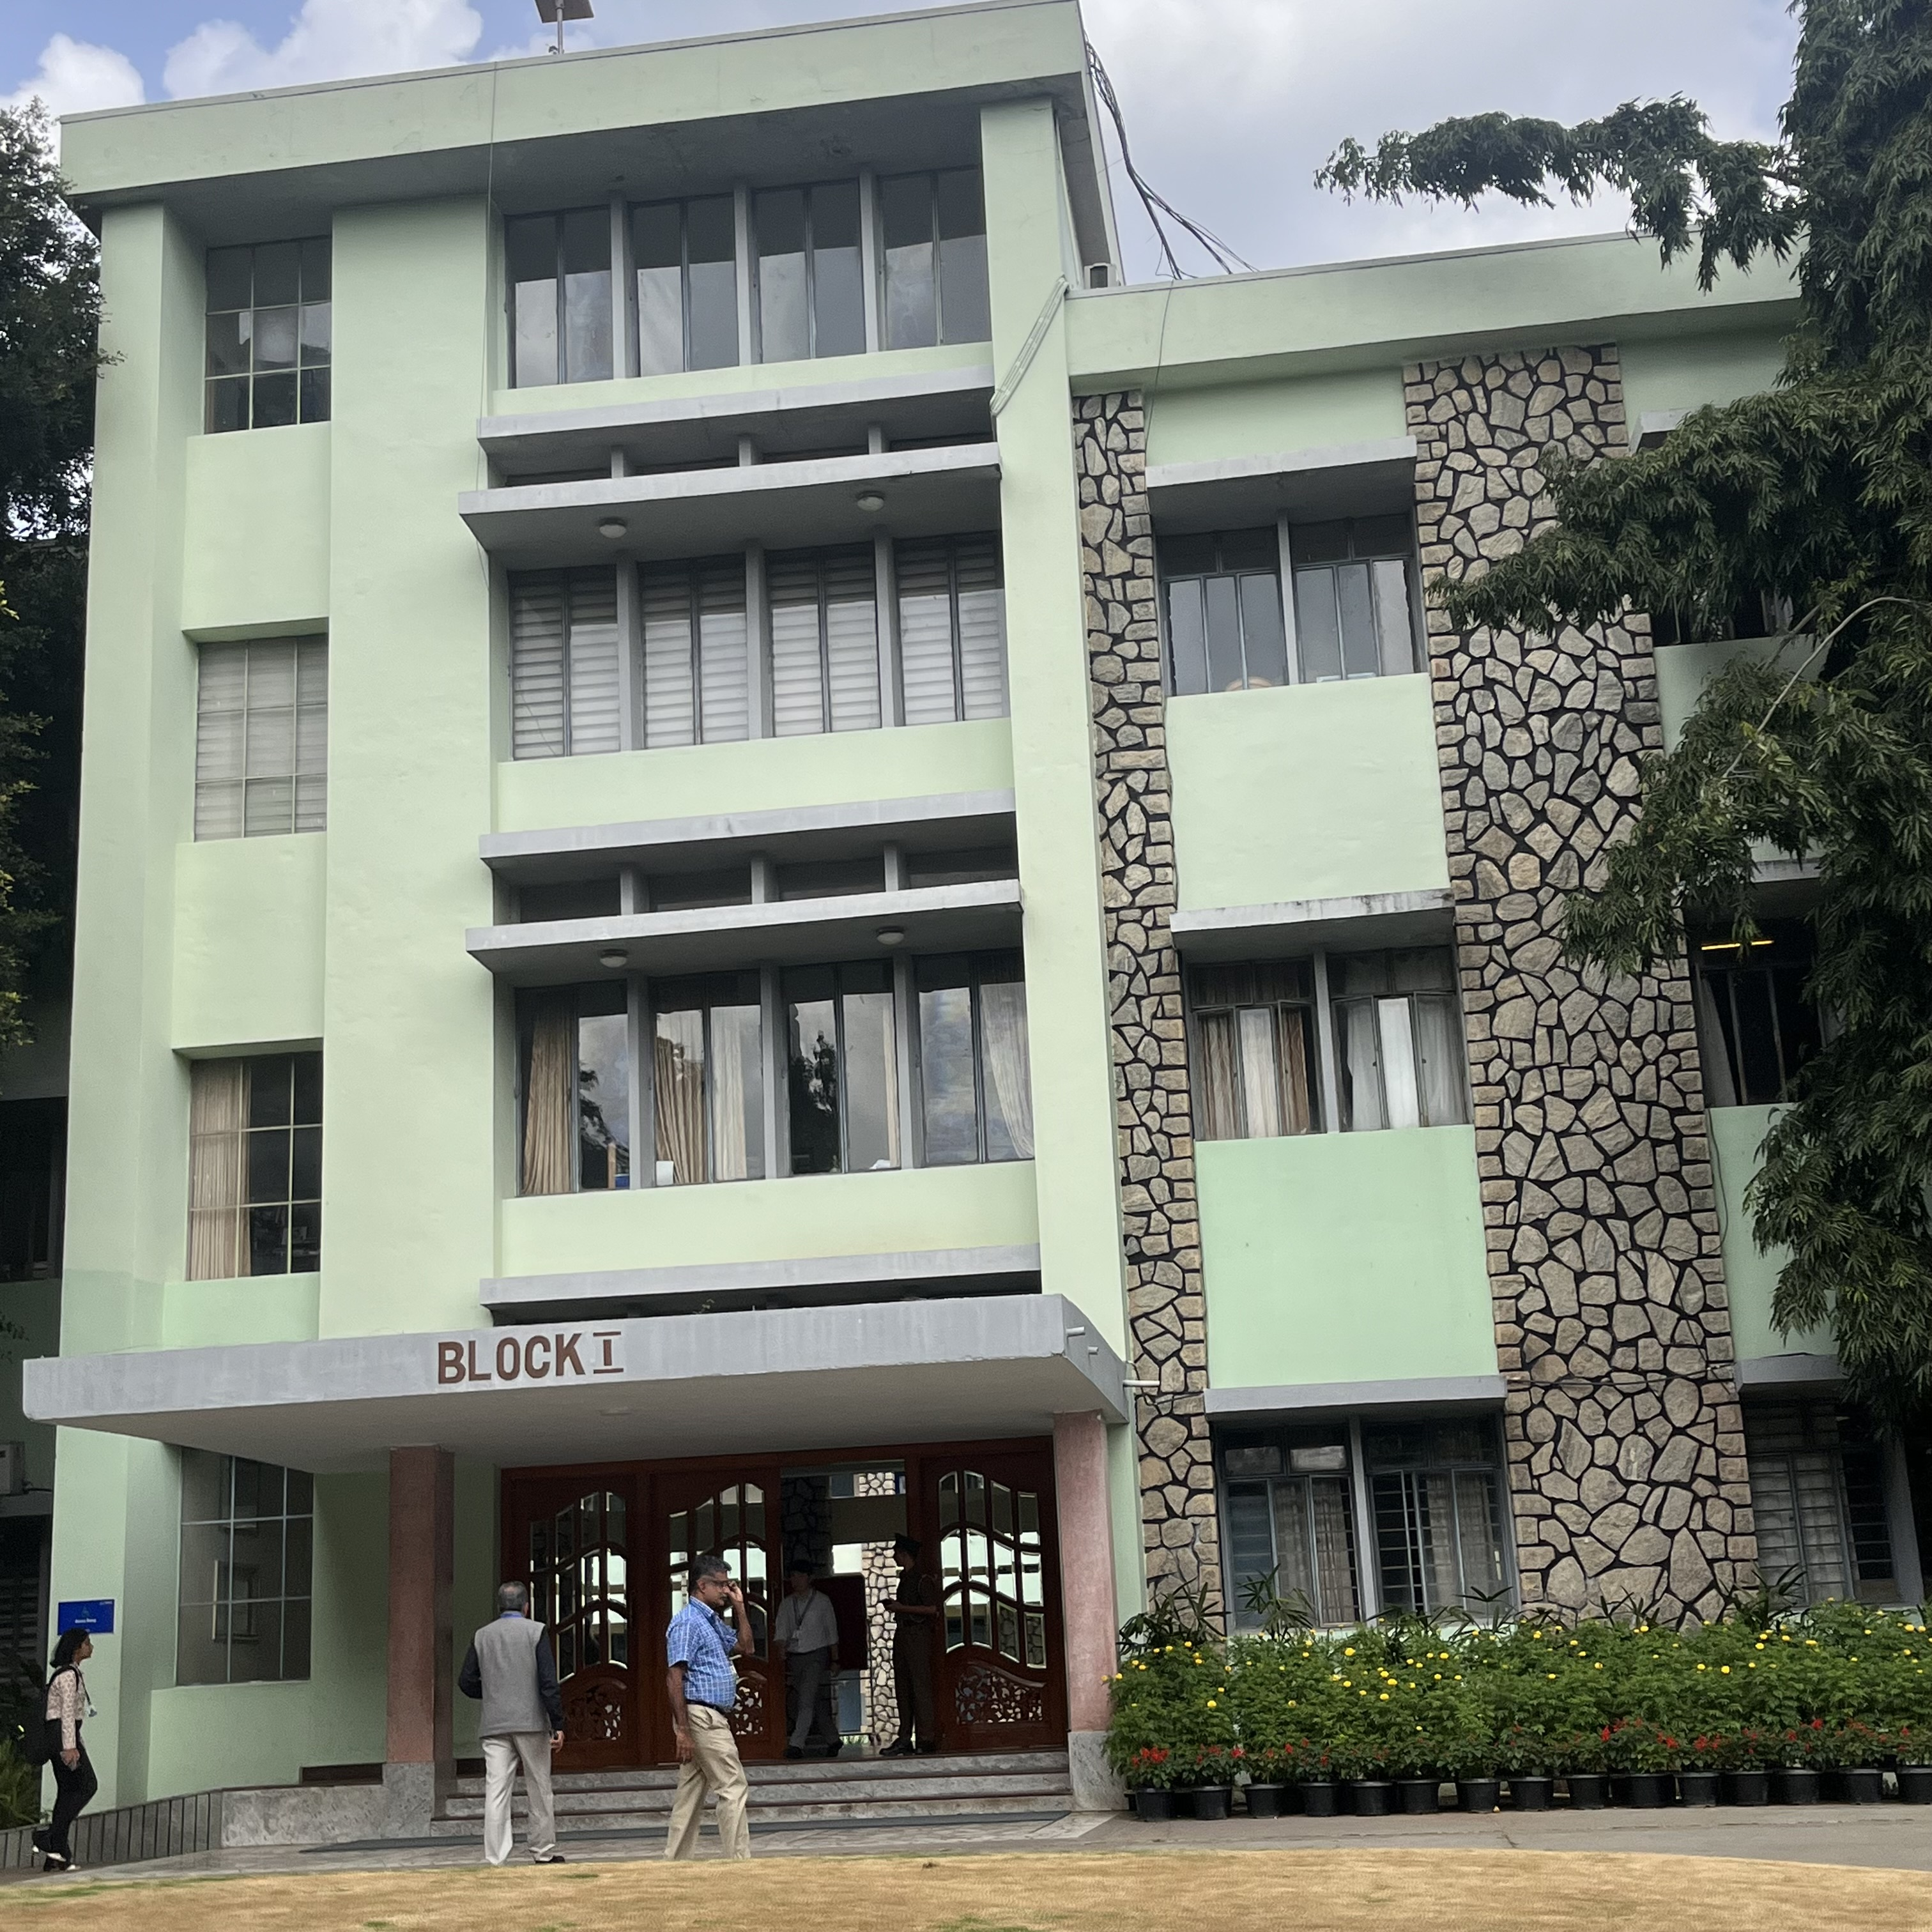Block 1: (41, 83, 1789, 1633)
